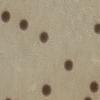brown: (87, 78, 100, 96), (39, 82, 53, 98), (0, 8, 12, 25), (18, 16, 30, 33), (38, 30, 50, 46), (62, 57, 74, 73), (91, 20, 100, 37), (82, 93, 94, 100), (4, 96, 13, 100)
